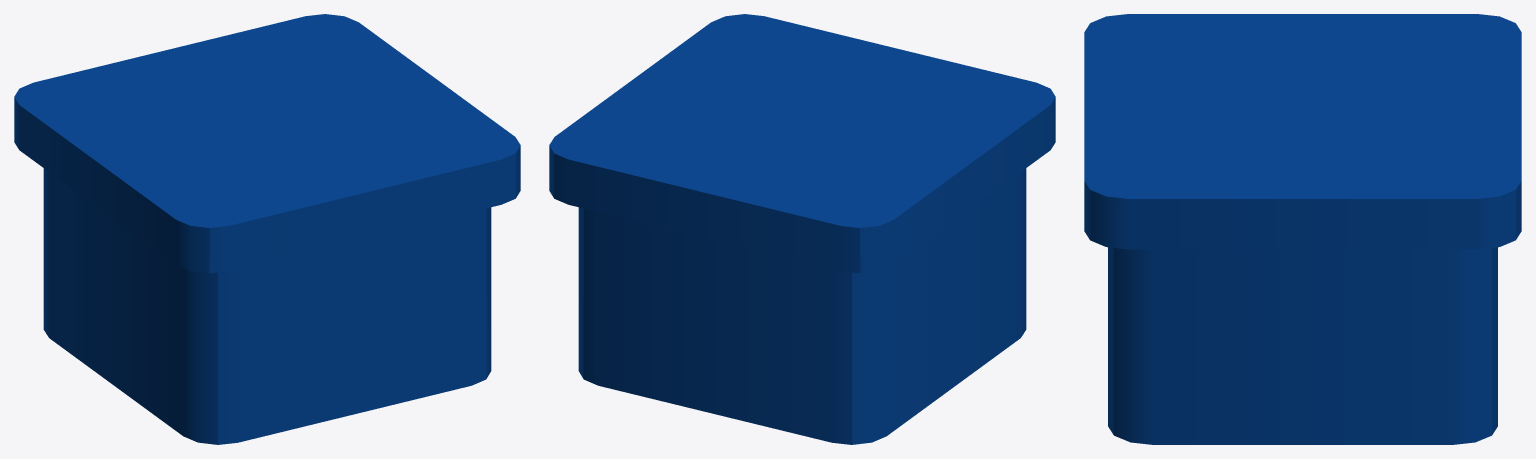
The picture shows the model from 3 angles, left to right: view 1: azimuth 30°, elevation 25°; view 2: azimuth 150°, elevation 25°; view 3: azimuth 270°, elevation 25°; orthographic projection. The views are drawn at different scales.
Visible parts, largest first — view 1: Cube.004; view 2: Cube.004; view 3: Cube.004.
Part boxes in pixels (x1,y1,x2,y2): Cube.004: [14, 14, 520, 444]; Cube.004: [549, 14, 1055, 444]; Cube.004: [1084, 14, 1521, 444].
Bounding box in the file's own units: 224 × 145 × 224.
